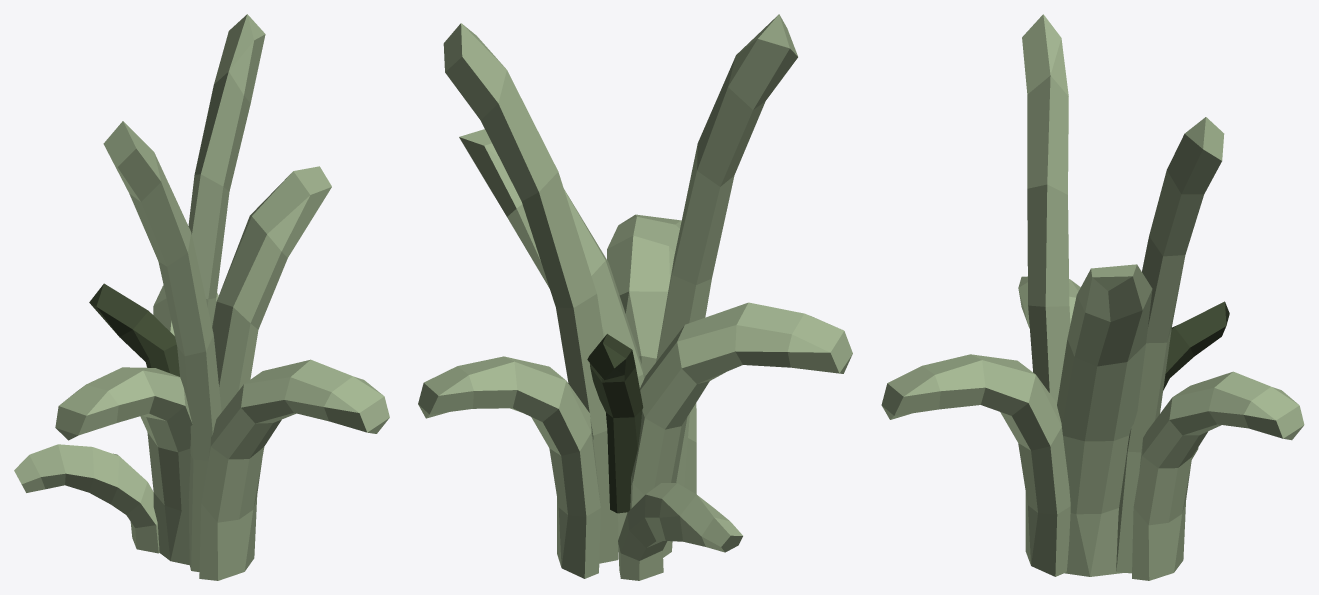
Rendered from EA_Swamp_Grass_01b.glb.
The picture shows the model from 3 angles, left to right: view 1: azimuth 30°, elevation 25°; view 2: azimuth 150°, elevation 25°; view 3: azimuth 270°, elevation 25°; orthographic projection. The views are drawn at different scales.
Parts seen in each view (by area): view 1: EA_Swamp_Grass_01b; view 2: EA_Swamp_Grass_01b; view 3: EA_Swamp_Grass_01b.
Part boxes in pixels (left/top/right/bottom): EA_Swamp_Grass_01b: left=14, top=14, right=389, bottom=580; EA_Swamp_Grass_01b: left=418, top=14, right=852, bottom=580; EA_Swamp_Grass_01b: left=881, top=14, right=1304, bottom=580.
Bounding box in the file's own units: 0.7167 × 1.09 × 0.8418.
Materials: 1 (1 with a texture image).
